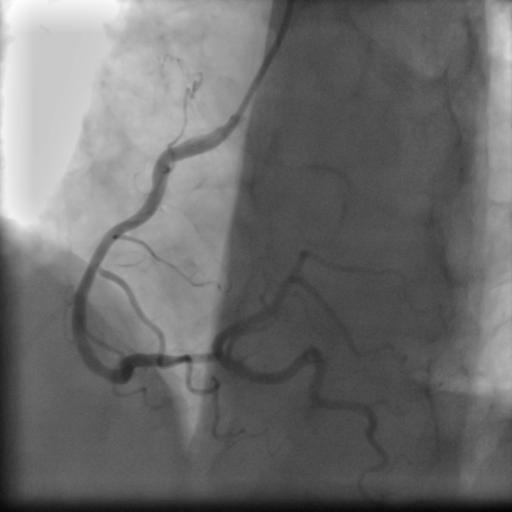Stenosis: (167, 346, 214, 371)
